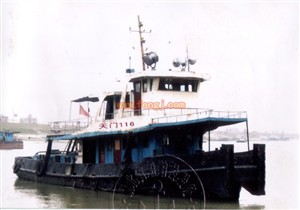airplane: (11, 16, 267, 202)
